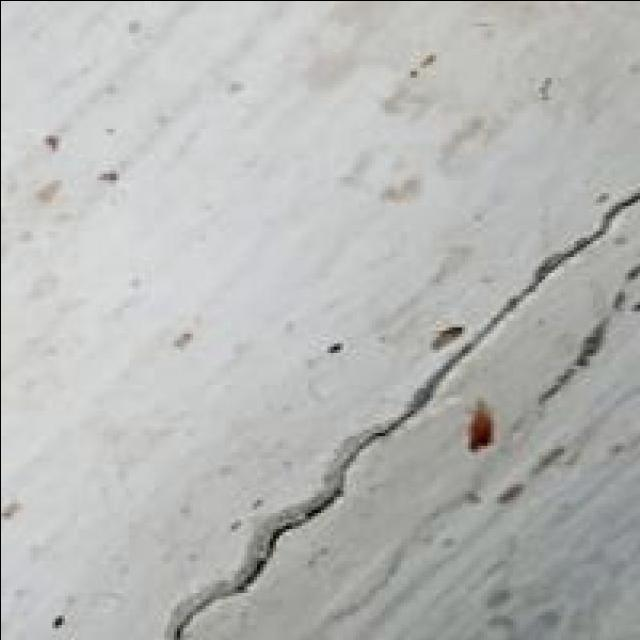SurfaceCrack: (156, 154, 636, 640)
